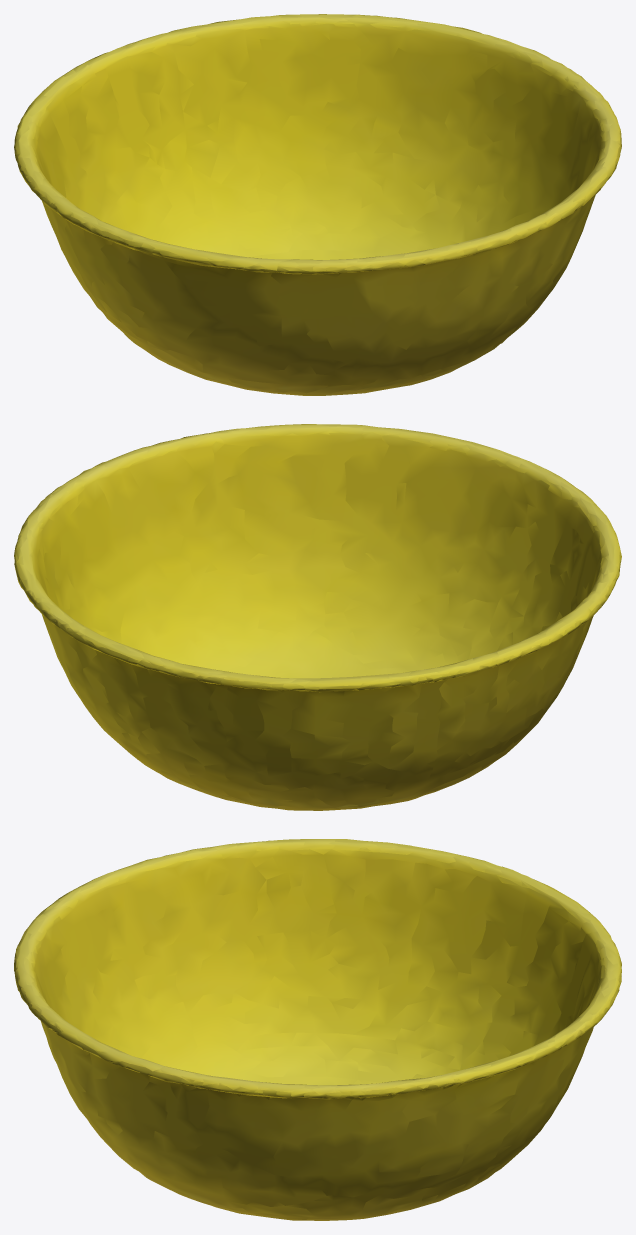
Rendered from 0007_mask_008_yellow_bowl.glb.
The picture shows the model from 3 angles, top to bottom: view 1: azimuth 30°, elevation 25°; view 2: azimuth 150°, elevation 25°; view 3: azimuth 270°, elevation 25°; orthographic projection.
Visible parts, largest first — view 1: mask_008_object; view 2: mask_008_object; view 3: mask_008_object.
Part boxes in pixels (box(x1,y1,x2,y2)): mask_008_object: box(14, 14, 621, 395); mask_008_object: box(14, 424, 621, 810); mask_008_object: box(14, 839, 621, 1220).
Bounding box in the file's own units: 0.3634 × 0.1356 × 0.3629.
